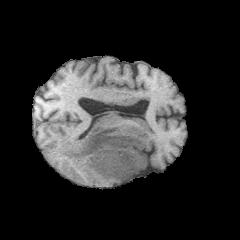glioma: (57, 124, 156, 183)
